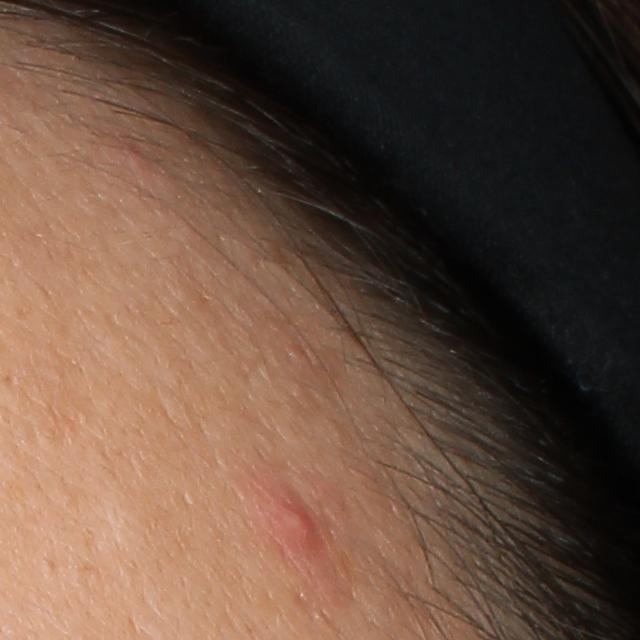papule: (275, 502, 326, 551)
